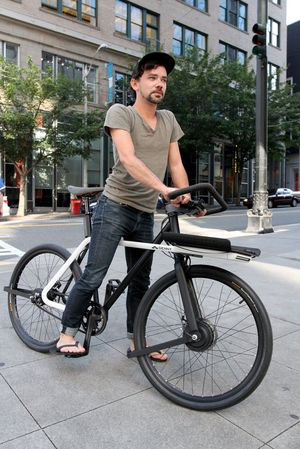bikerider: (18, 42, 284, 435)
